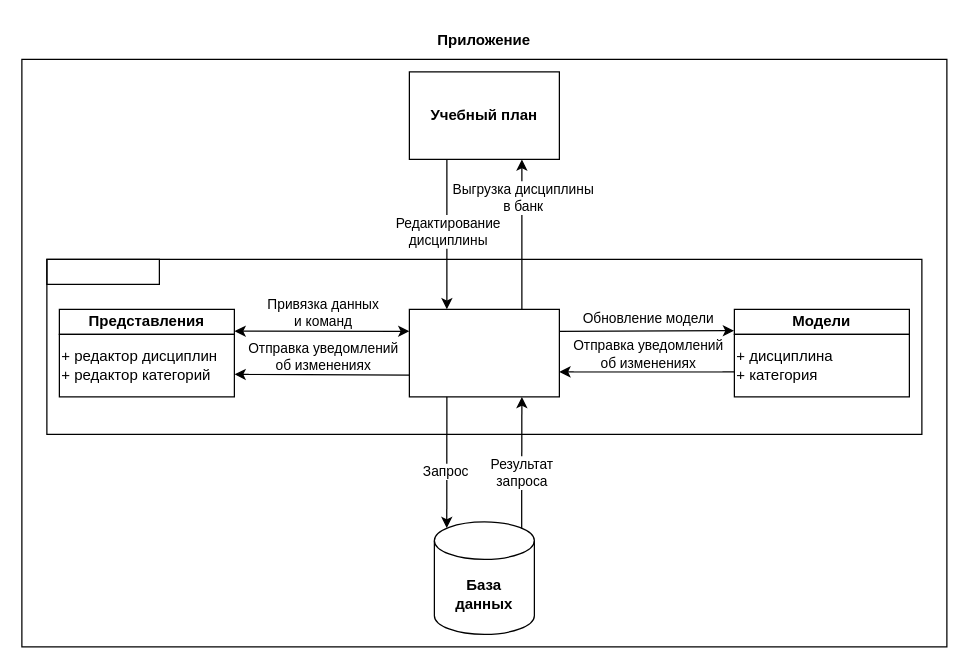
Some shapes in this 969 by 669 pixel diagram are drawn without their labels. Each missing label, with the centre of its shape:
Модели Представления: the point at 483,352
Шаблон MVVM: the point at 102,271
